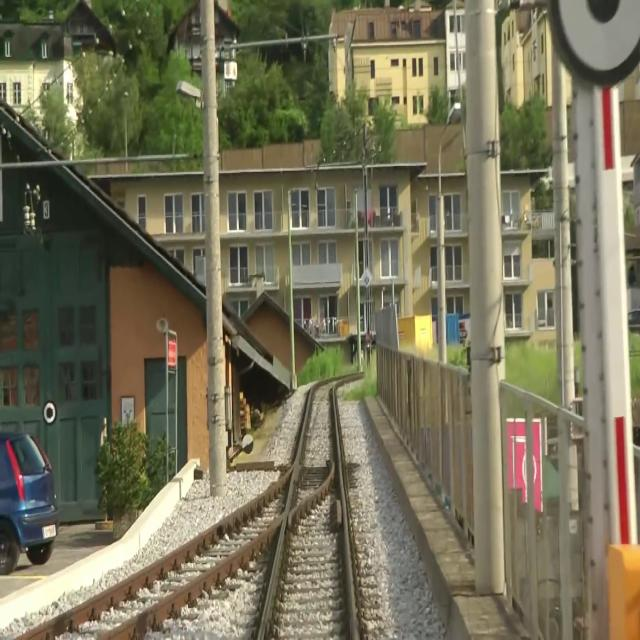rail-track: (21, 476, 289, 639), (261, 380, 352, 639)
